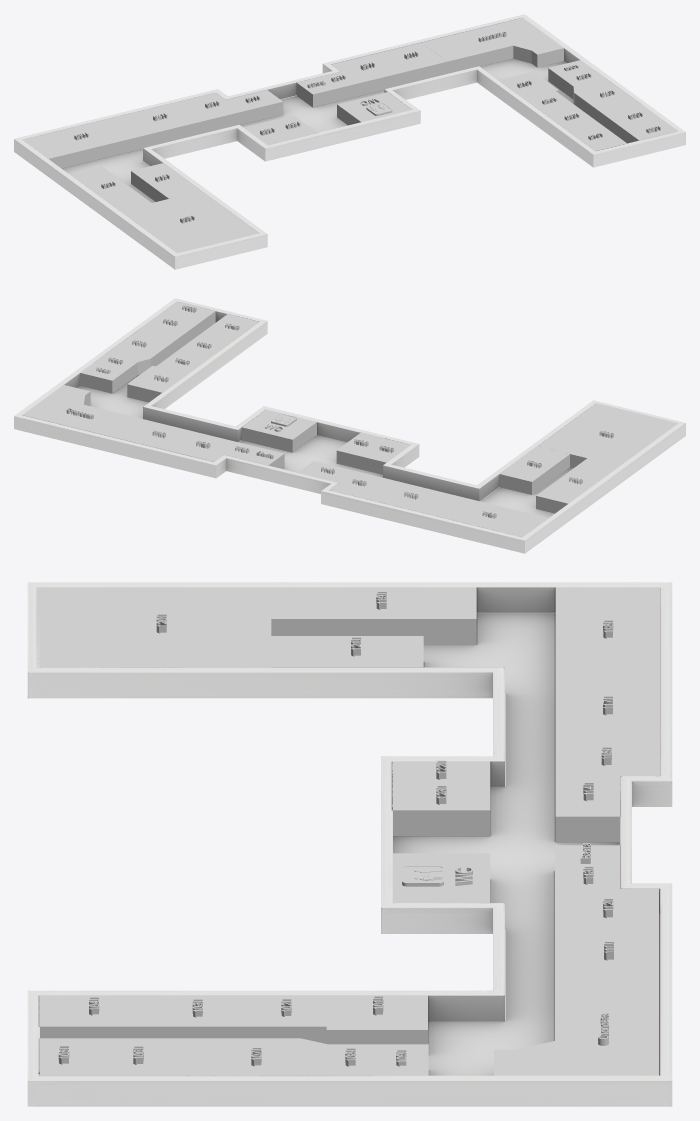
File: BestOpt.glb
The picture shows the model from 3 angles, top to bottom: view 1: azimuth 30°, elevation 25°; view 2: azimuth 150°, elevation 25°; view 3: azimuth 270°, elevation 25°; orthographic projection. The views are drawn at different scales.
Parts seen in each view (by area): view 1: Foundation, 120L, Kitchen, 118L, 117L, 112L, 107L, 119L, 111L, 121L, 115L, WC (+13 smaller); view 2: Foundation, 120L, Kitchen, 118L, 121L, WC, 119L, 117L, 107L, 101L, 112L, 106L (+12 smaller); view 3: Foundation, 120L, Kitchen, 119L, 118L, 117L, 107L, 101L, 123L, 112L, 121L, 104L (+14 smaller).
Part boxes in pixels (bbox=[...]): Foundation: bbox=[14, 14, 685, 269]; 120L: bbox=[120, 191, 258, 253]; Kitchen: bbox=[421, 18, 563, 73]; 118L: bbox=[22, 118, 139, 168]; 117L: bbox=[113, 101, 208, 149]; 112L: bbox=[331, 53, 404, 96]; 107L: bbox=[573, 78, 640, 124]; 119L: bbox=[68, 165, 151, 210]; 111L: bbox=[379, 42, 447, 83]; 121L: bbox=[131, 163, 200, 201]; 115L: bbox=[182, 92, 241, 131]; WC: bbox=[337, 92, 411, 125]; Foundation: bbox=[14, 298, 685, 553]; 120L: bbox=[538, 403, 678, 467]; Kitchen: bbox=[22, 385, 149, 439]; 118L: bbox=[432, 496, 548, 537]; 121L: bbox=[499, 446, 569, 494]; WC: bbox=[242, 409, 316, 452]; 119L: bbox=[536, 458, 619, 513]; 117L: bbox=[363, 479, 457, 514]; 107L: bbox=[106, 328, 178, 374]; 101L: bbox=[127, 365, 187, 402]; 112L: bbox=[167, 431, 239, 461]; 106L: bbox=[141, 311, 202, 349]; Foundation: bbox=[27, 582, 672, 1106]; 120L: bbox=[36, 587, 271, 667]; Kitchen: bbox=[494, 976, 659, 1075]; 119L: bbox=[271, 587, 476, 644]; 118L: bbox=[555, 587, 659, 675]; 117L: bbox=[555, 676, 659, 743]; 107L: bbox=[187, 1038, 326, 1075]; 101L: bbox=[326, 995, 427, 1044]; 123L: bbox=[392, 786, 490, 836]; 112L: bbox=[555, 888, 659, 934]; 121L: bbox=[271, 636, 423, 667]; 104L: bbox=[39, 995, 149, 1038].
Bounding box in the file's own units: 0.4299 × 0.0135 × 0.2348.
Materials: 55 (1 with a texture image).
